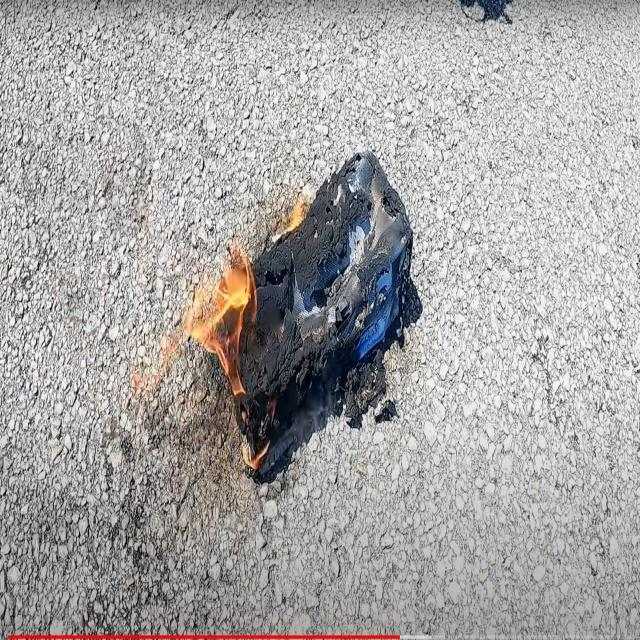Fire: (181, 240, 258, 406), (245, 408, 275, 482), (272, 198, 304, 240)
